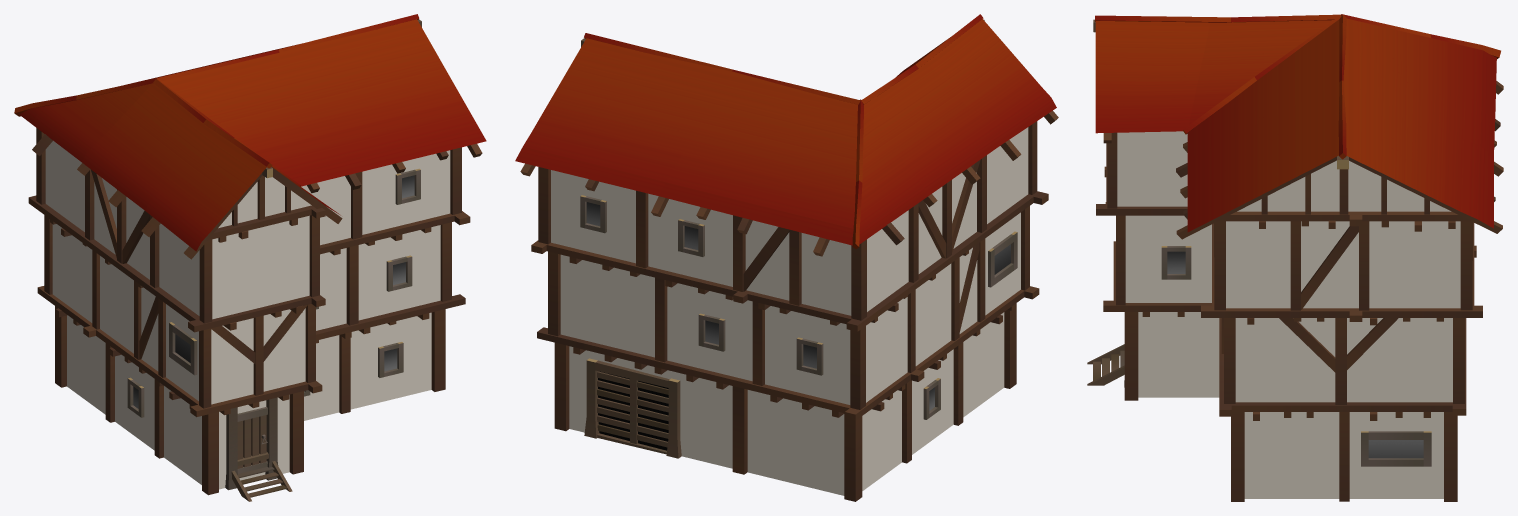
The model's file is House_3_LOD1.fbx.
3 renders of one model, left to right at view 1: azimuth 30°, elevation 25°; view 2: azimuth 150°, elevation 25°; view 3: azimuth 270°, elevation 25°, orthographic. The views are drawn at different scales.
Visible parts, largest first — view 1: polySurface9612; view 2: polySurface9612; view 3: polySurface9612.
Boxes of the visible parts, <box> form: polySurface9612: <box>14,14,486,501</box>; polySurface9612: <box>515,14,1058,501</box>; polySurface9612: <box>1087,14,1503,501</box>.
Bounding box in the file's own units: 1101 × 1012 × 1056.
